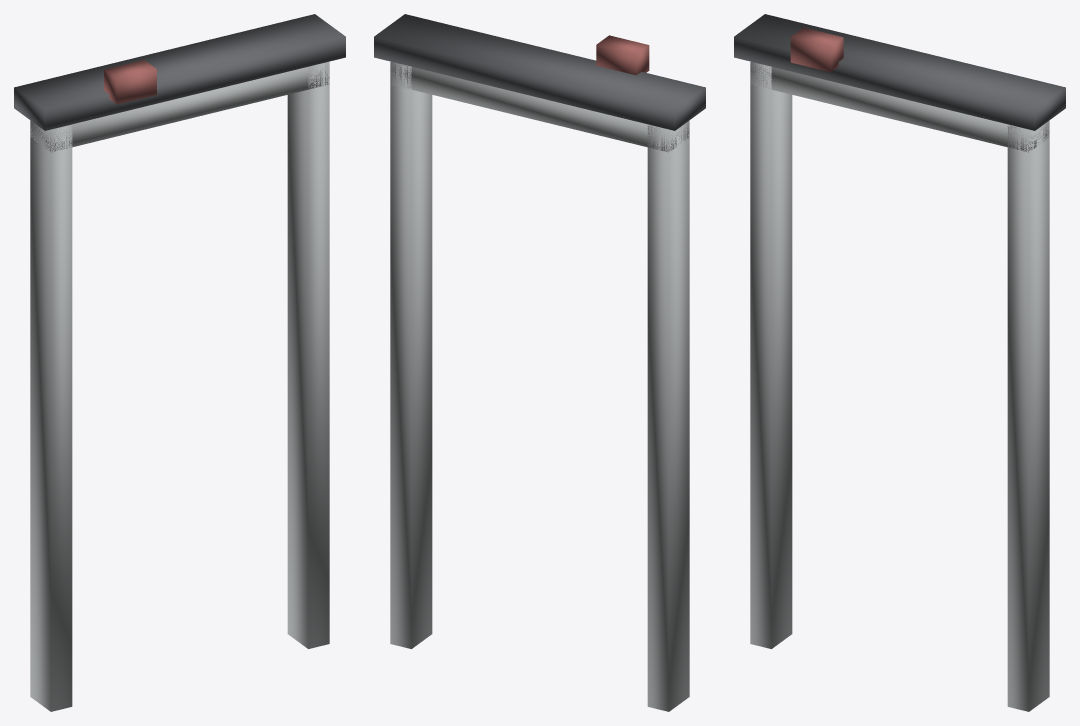
Rendered from doorway_fire_rated_w106_h240_d16.glb.
3 renders of one model, left to right at view 1: azimuth 30°, elevation 25°; view 2: azimuth 150°, elevation 25°; view 3: azimuth 330°, elevation 25°, orthographic.
Parts seen in each view (by area): view 1: world; view 2: world; view 3: world.
Part boxes in pixels (x1=…): world: x1=14, y1=14, x2=345, y2=711; world: x1=374, y1=14, x2=705, y2=711; world: x1=734, y1=14, x2=1065, y2=711.
Bounding box in the file's own units: 1.35 × 2.7 × 0.3.
